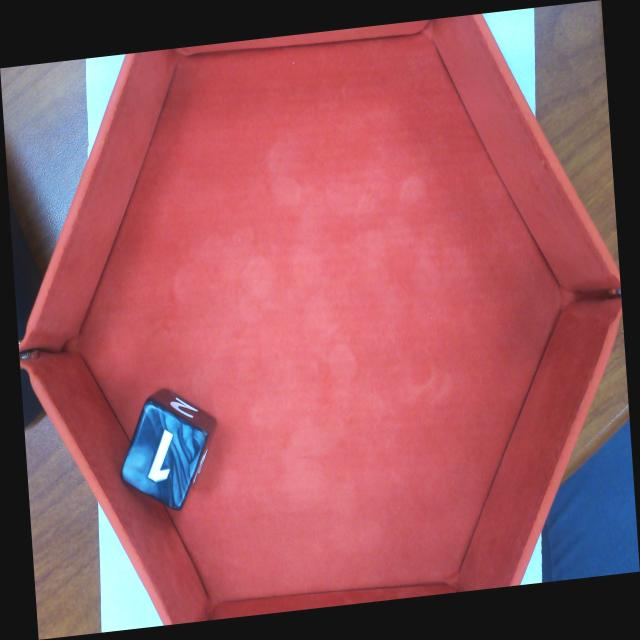dice: (126, 408, 203, 504)
